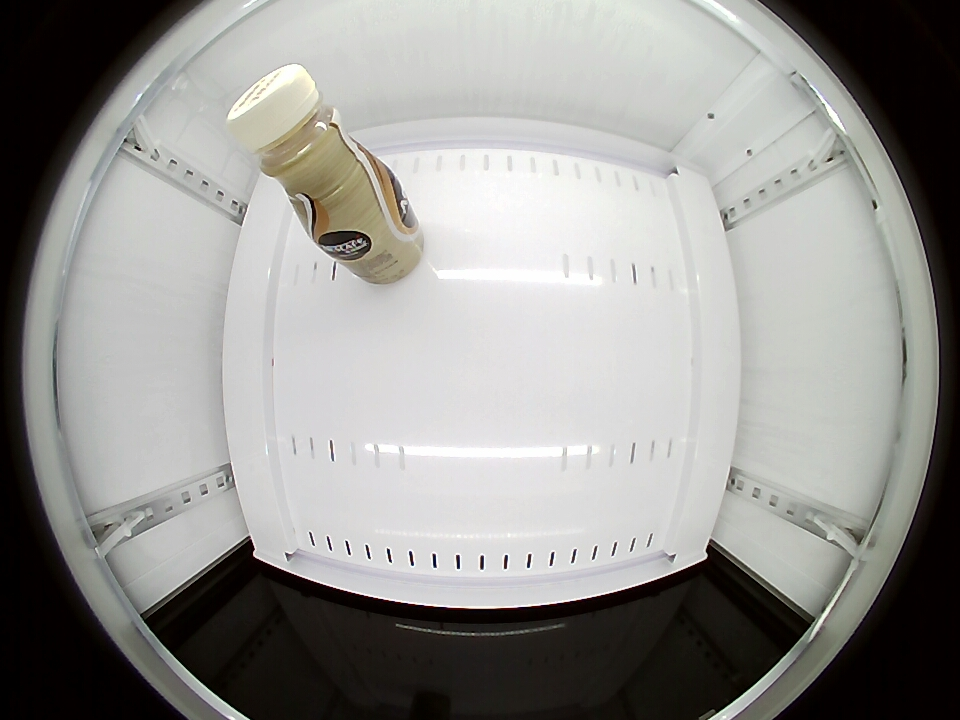kafei: (226, 62, 385, 236)
